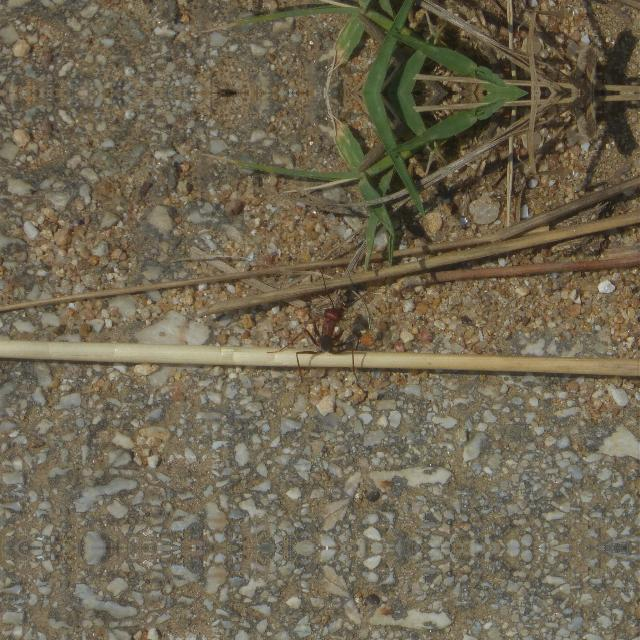Cataglyphis: (296, 300, 362, 368)
